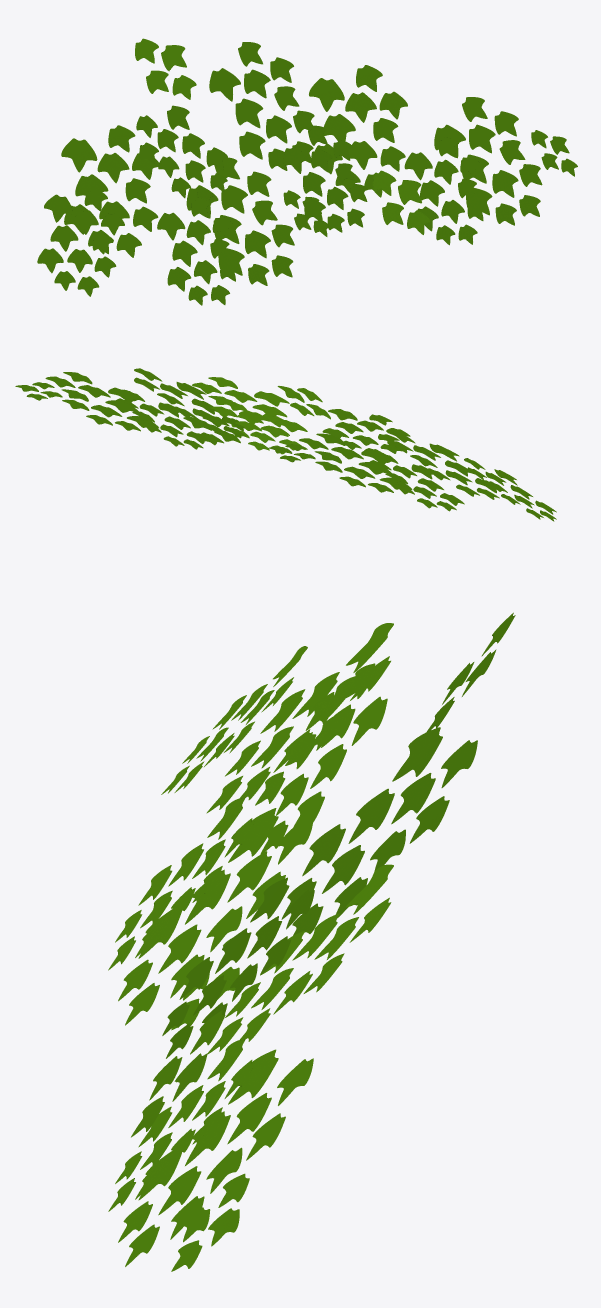
Rendered from vine-9.glb.
3 renders of one model, top to bottom at view 1: azimuth 30°, elevation 25°; view 2: azimuth 150°, elevation 25°; view 3: azimuth 270°, elevation 25°, orthographic. The views are drawn at different scales.
Parts seen in each view (by area): view 1: Prop_Vine9; view 2: Prop_Vine9; view 3: Prop_Vine9.
Boxes of the visible parts, x1,y1,x2,y2 form: Prop_Vine9: (37, 38, 577, 305); Prop_Vine9: (15, 368, 556, 521); Prop_Vine9: (108, 612, 515, 1271).
Bounding box in the file's own units: 4.14 × 1.47 × 1.47.
1 material, 1 textured.
